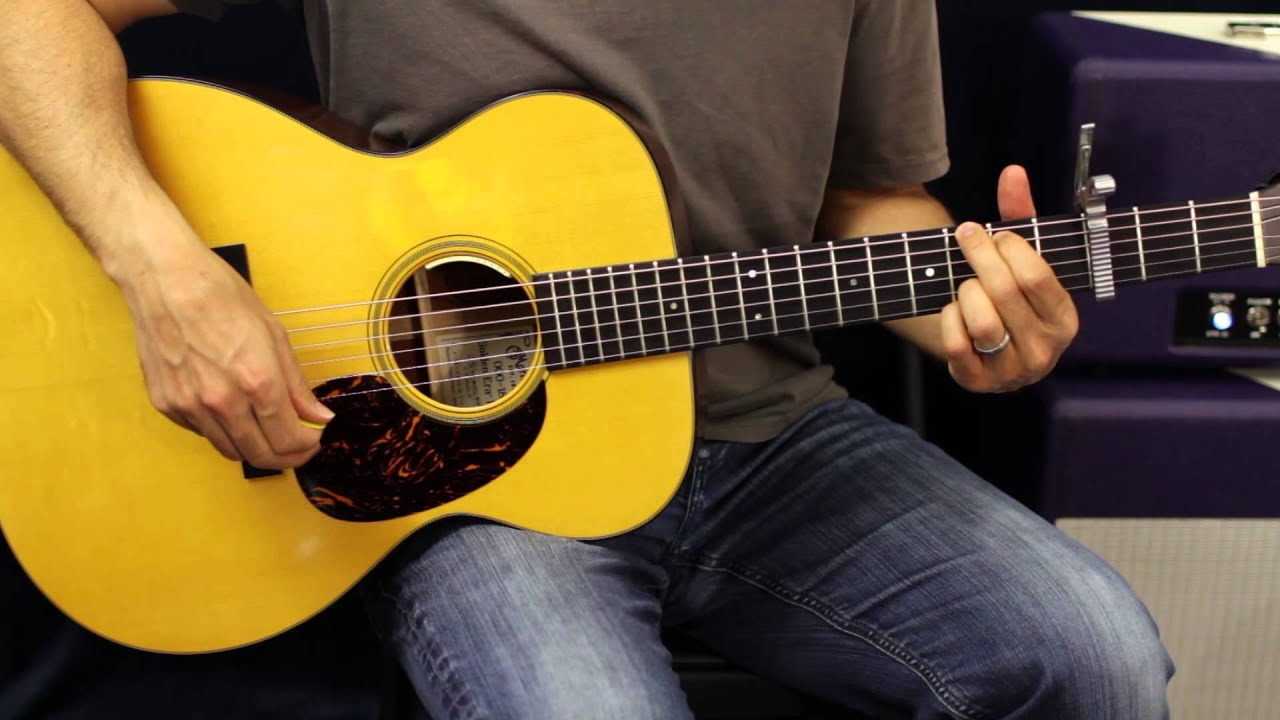fretboard: (546, 197, 1258, 371)
